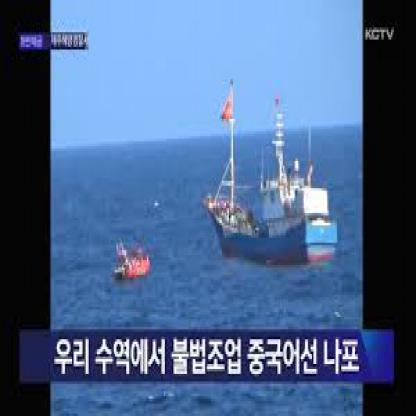fish-b: (203, 67, 341, 275)
